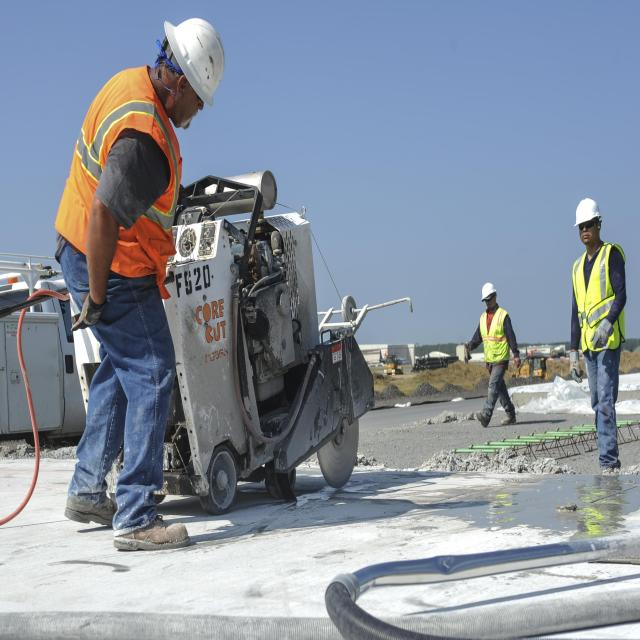Vest: (66, 59, 188, 284), (567, 242, 626, 356), (476, 306, 513, 360)
